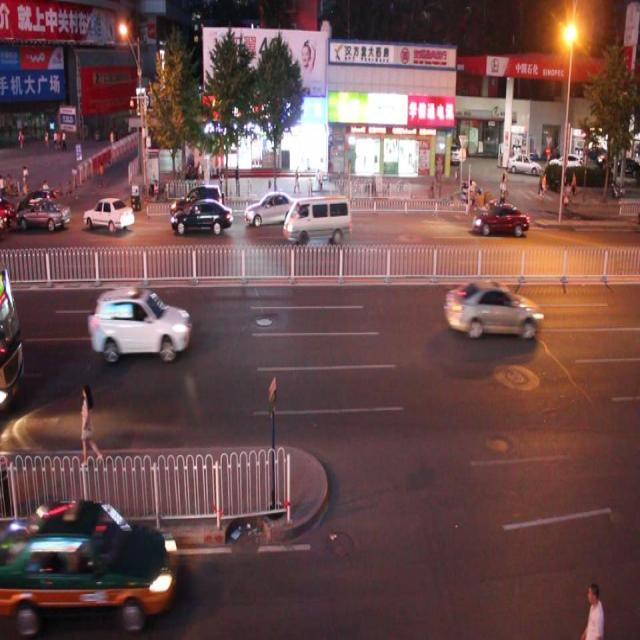car: (0, 497, 176, 628), (87, 282, 192, 360), (443, 274, 543, 342), (470, 197, 530, 238), (171, 198, 233, 235), (16, 195, 72, 233), (171, 182, 224, 220), (84, 195, 136, 232), (244, 190, 298, 225), (17, 186, 57, 219)
truck: (282, 193, 351, 244)
